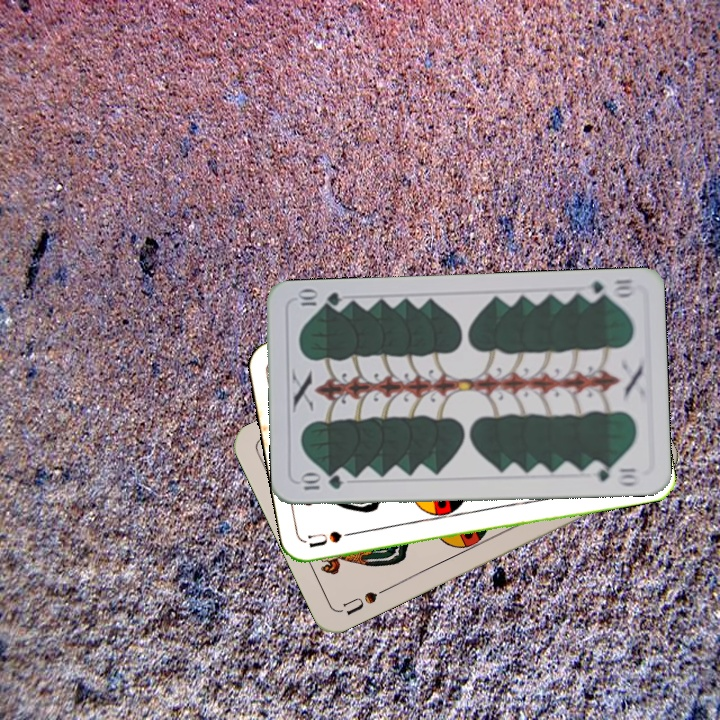G10: (579, 275, 638, 303), (296, 471, 346, 493)
SU: (337, 582, 392, 618), (305, 526, 364, 551)
